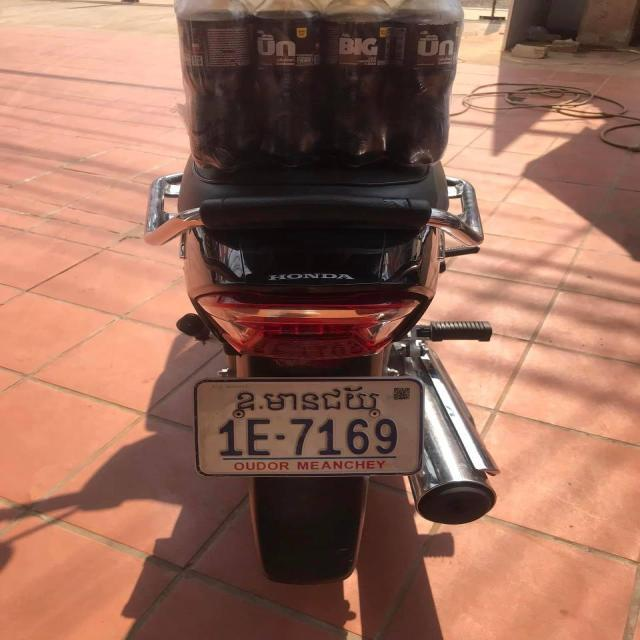Oudor_Meanchey: (238, 386, 381, 411)
